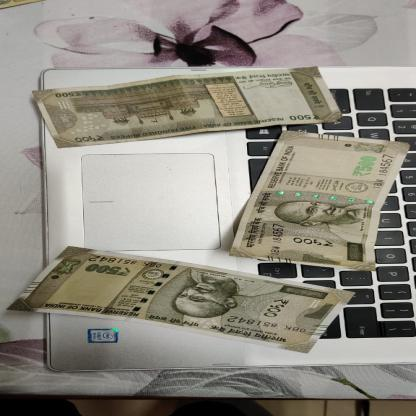New500Back: (32, 65, 344, 149)
New500Front: (6, 245, 359, 354), (227, 129, 412, 272)
